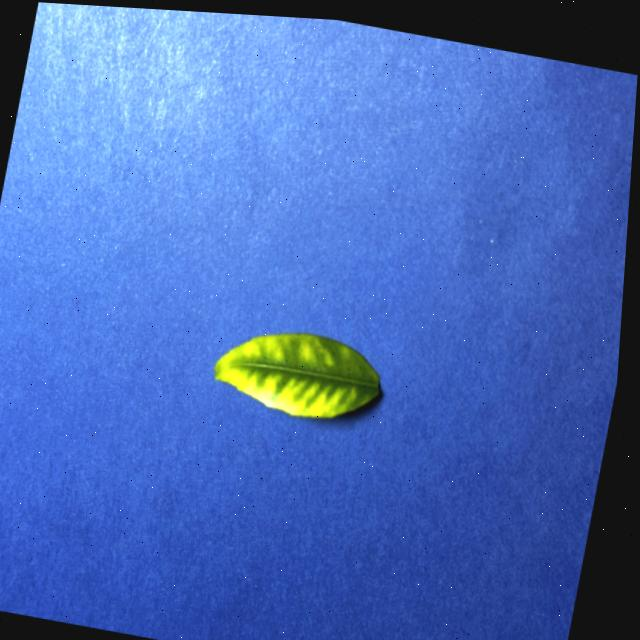greening: (213, 334, 378, 417)
